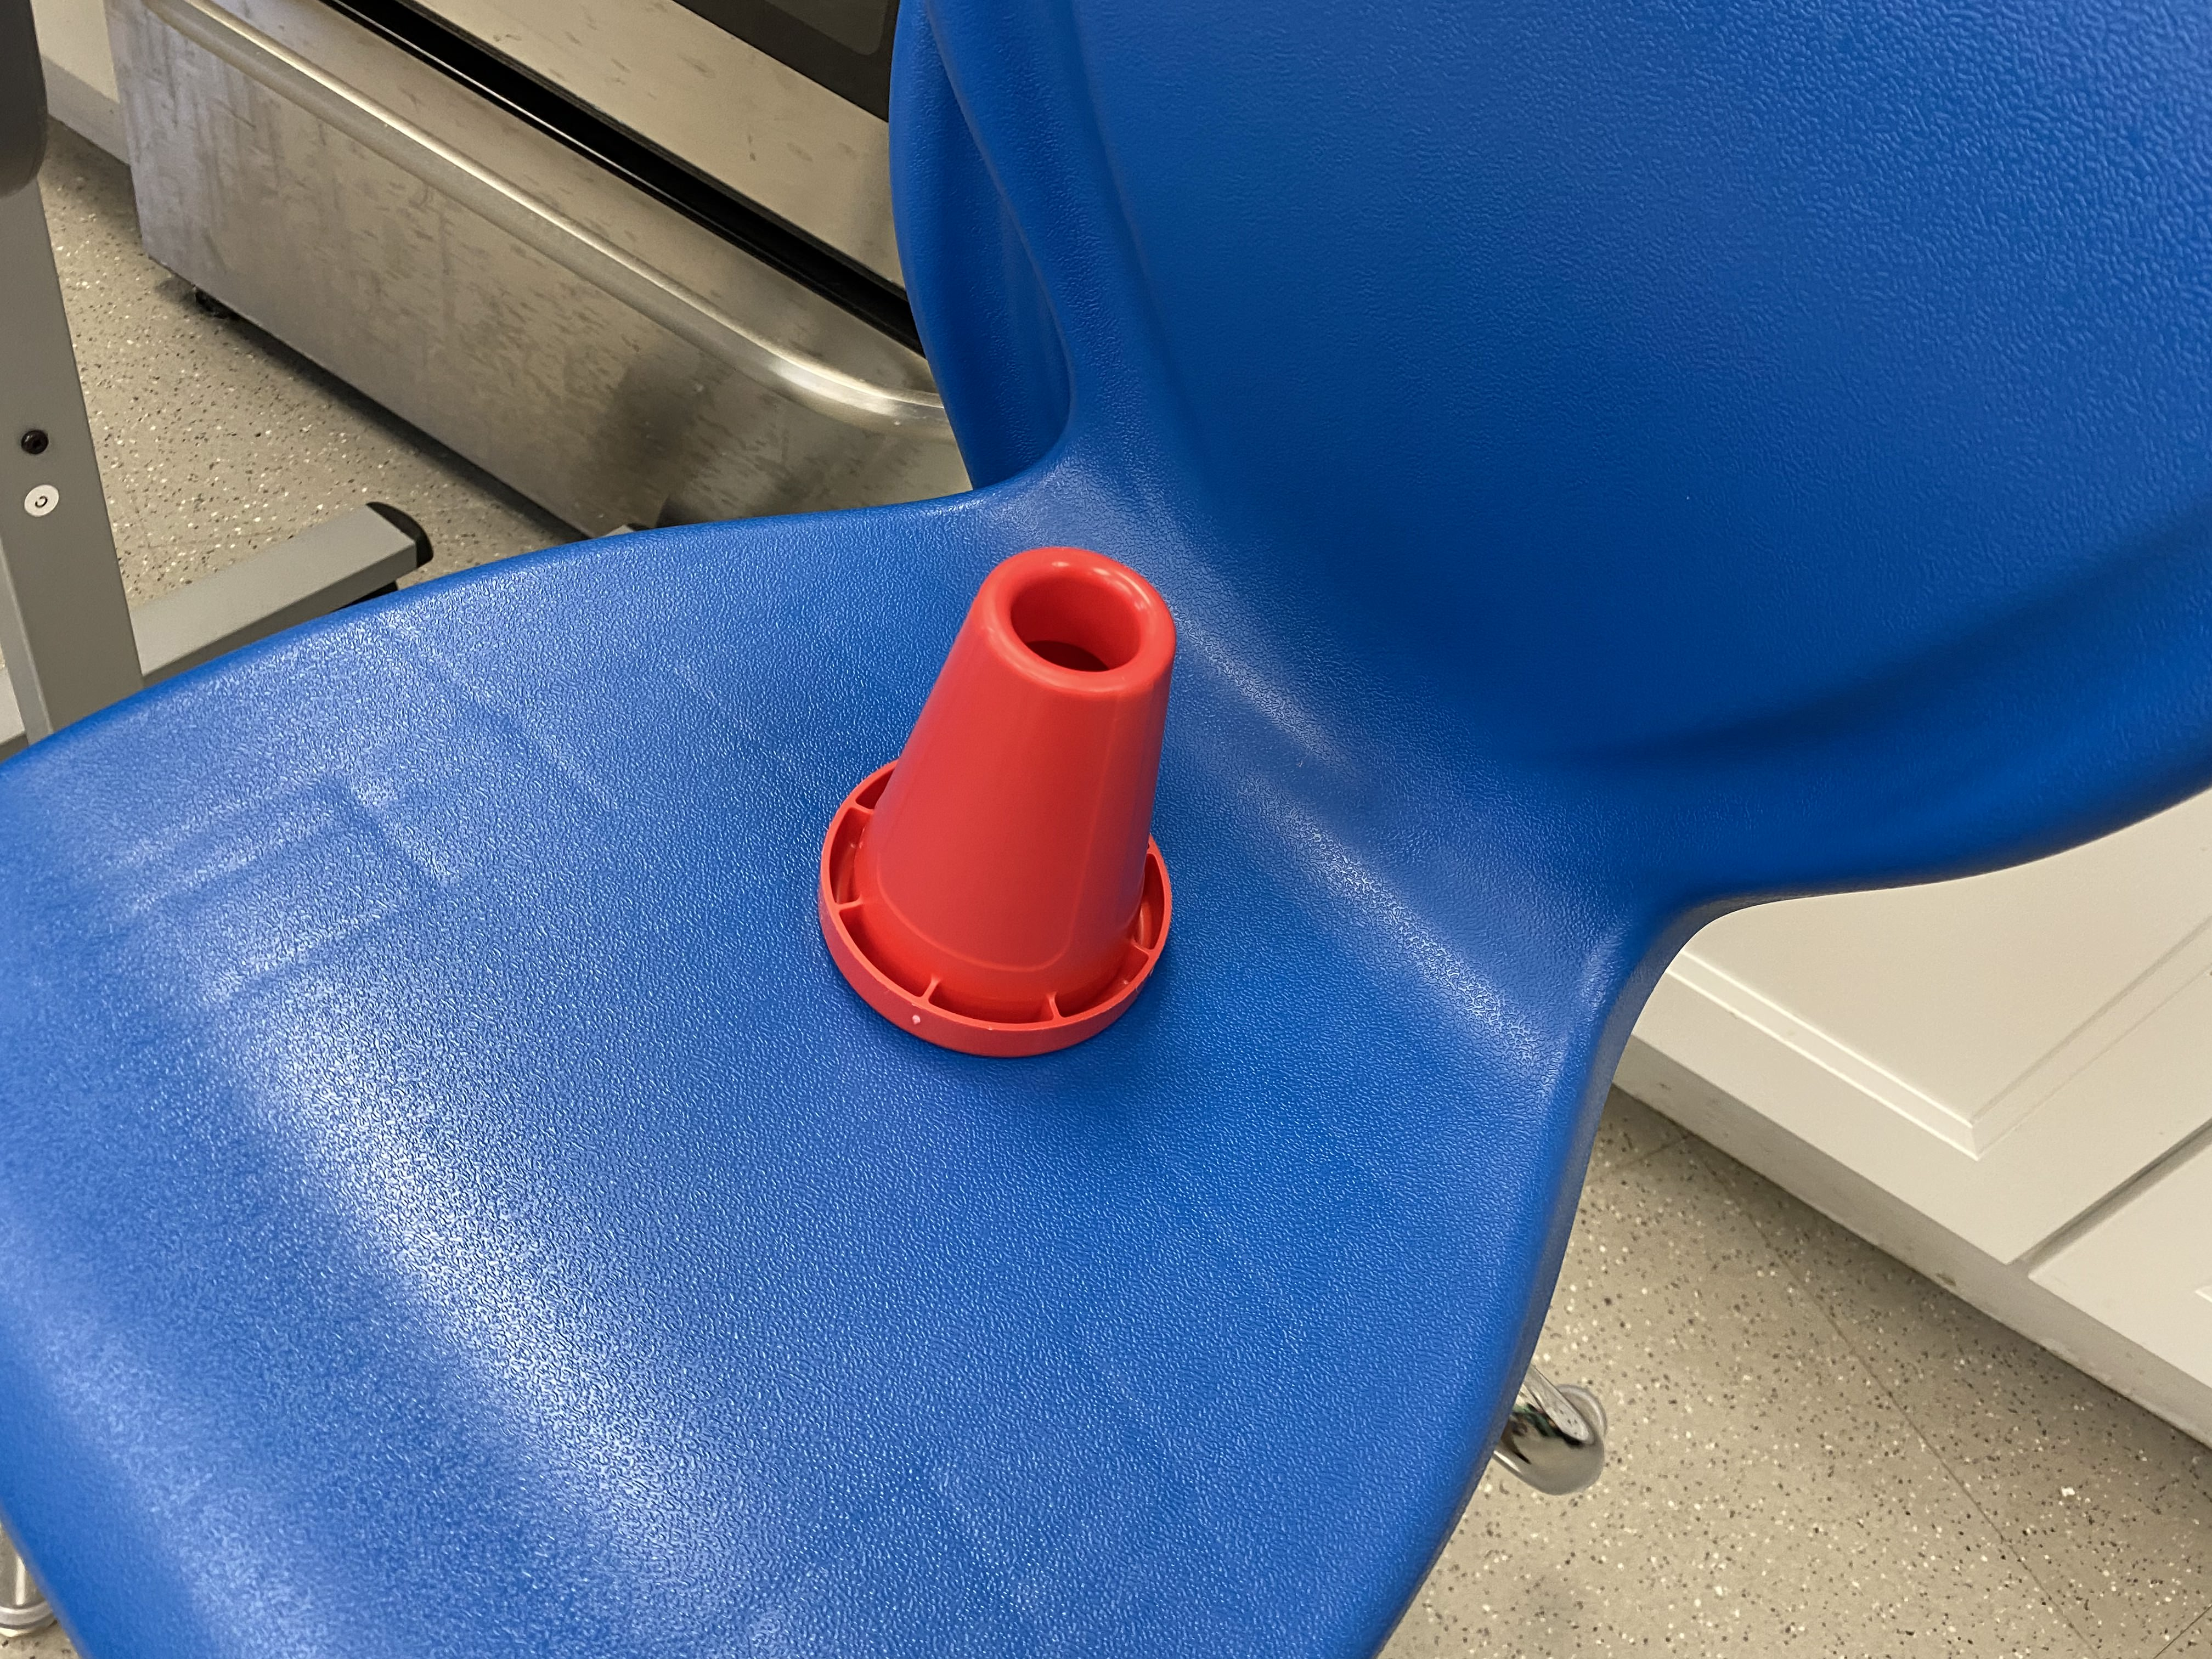redCone: (798, 535, 1184, 1072)
